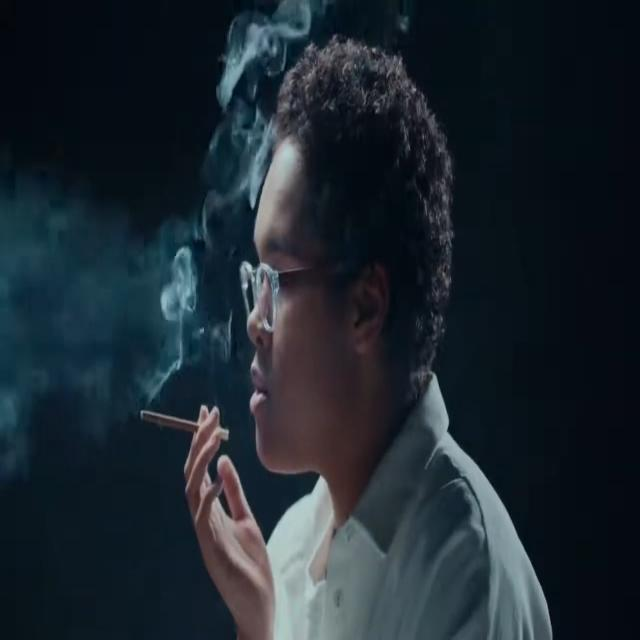Курение: (137, 390, 233, 466)
